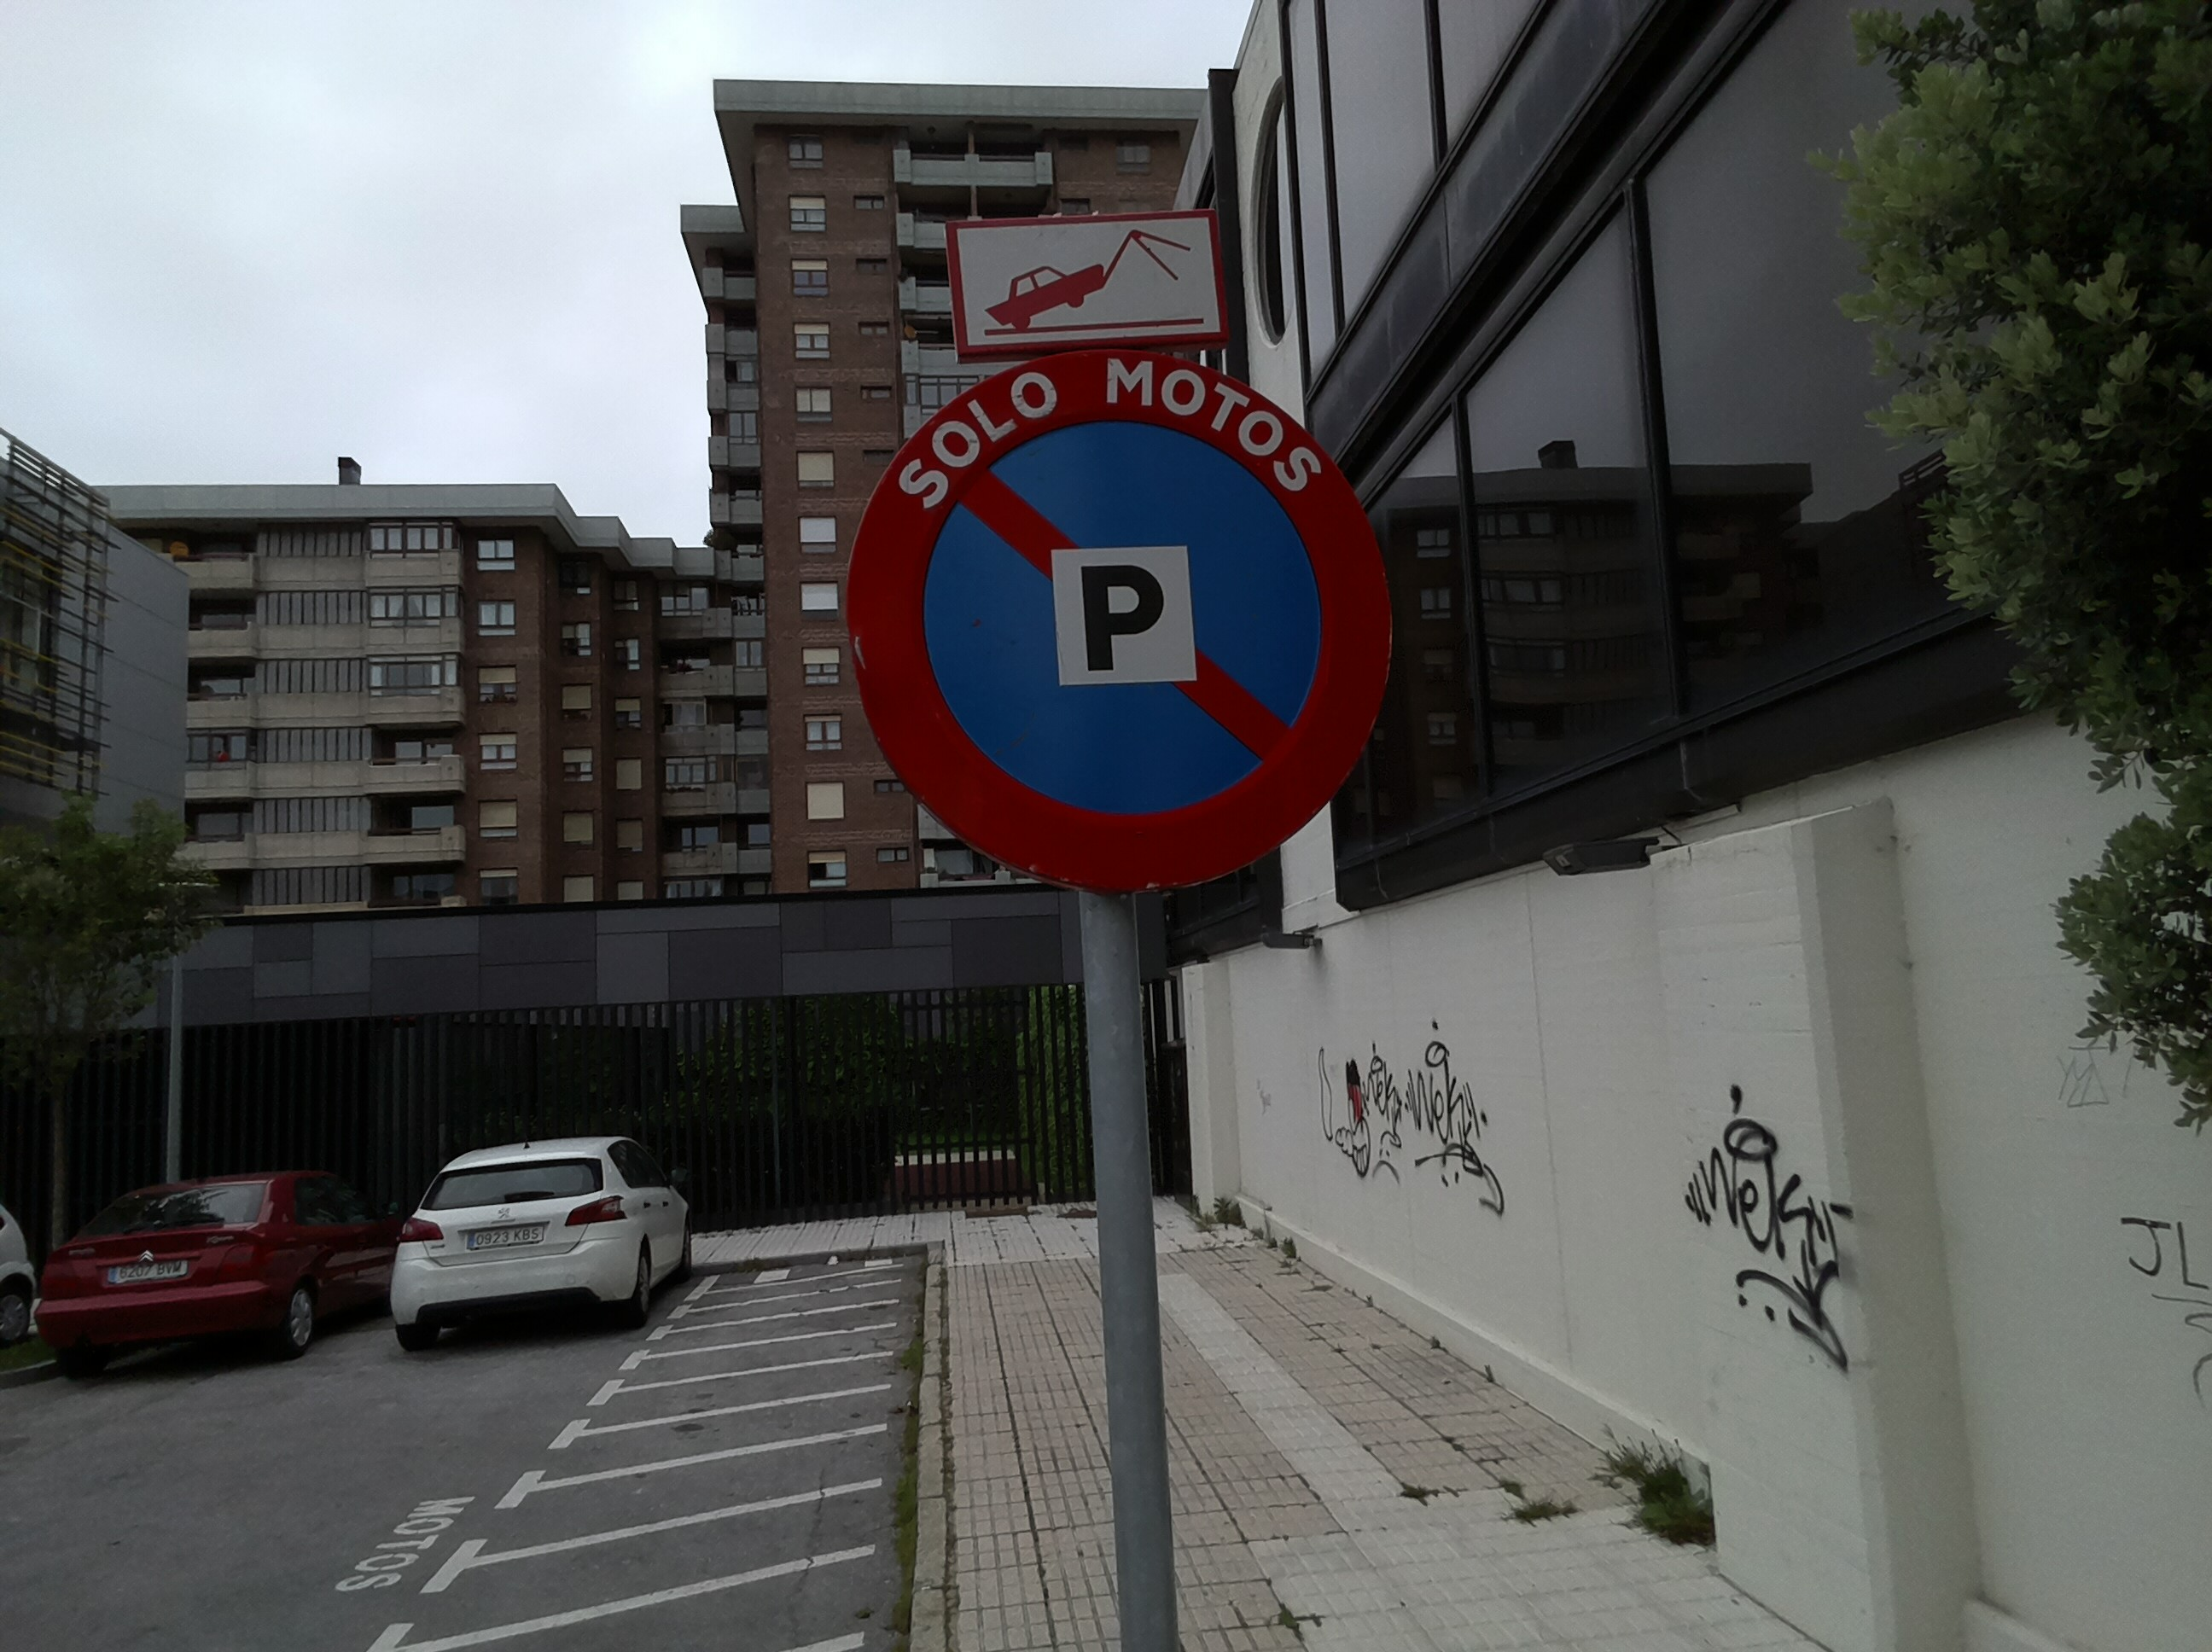Arbol: (1867, 24, 2212, 1055)
Cartel: (840, 349, 1426, 890), (947, 210, 1261, 352)
Muro: (1214, 906, 2212, 1628)
Poste: (1058, 871, 1206, 1652)
